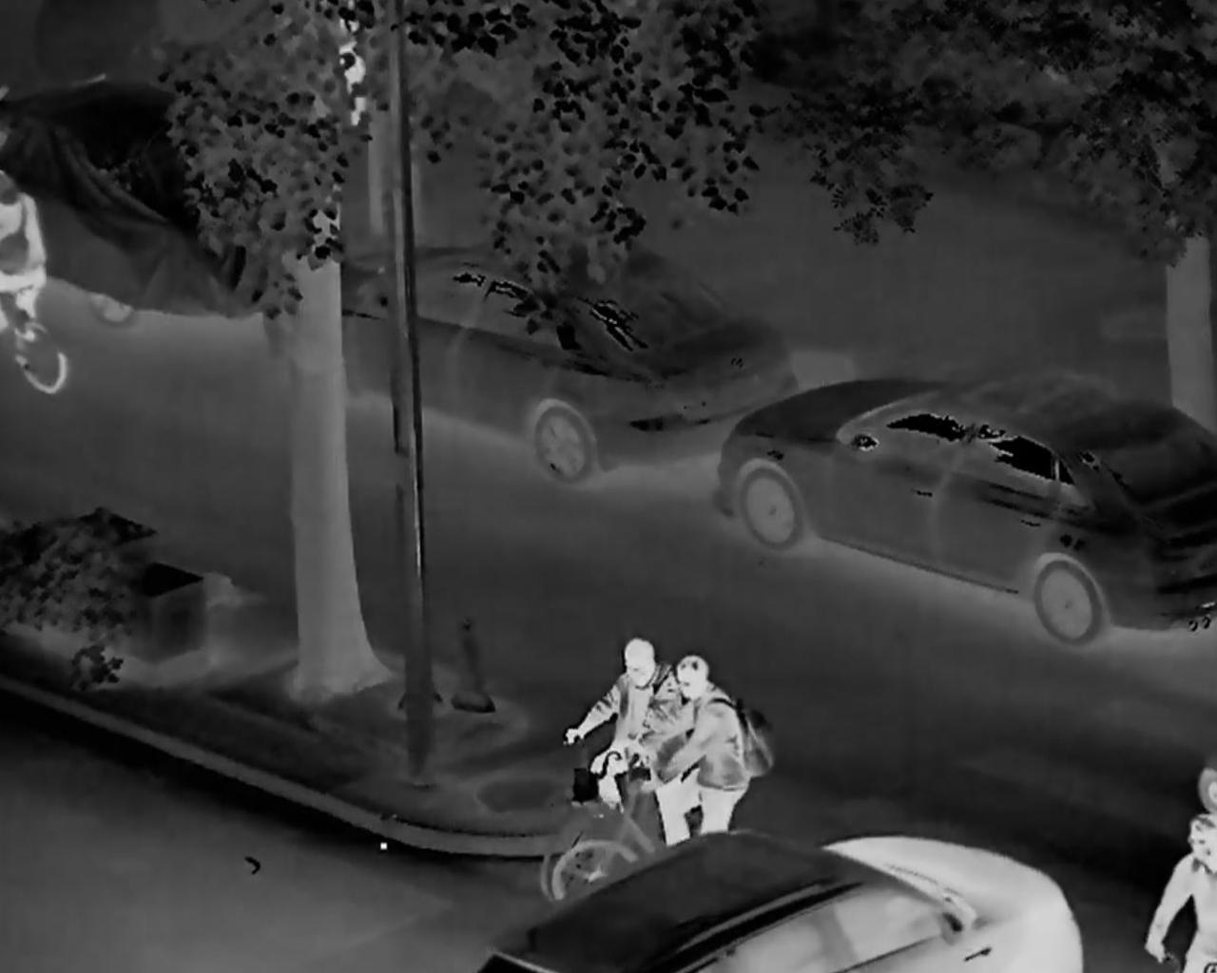person: (566, 630, 671, 835), (660, 646, 773, 831), (1141, 807, 1217, 973)
